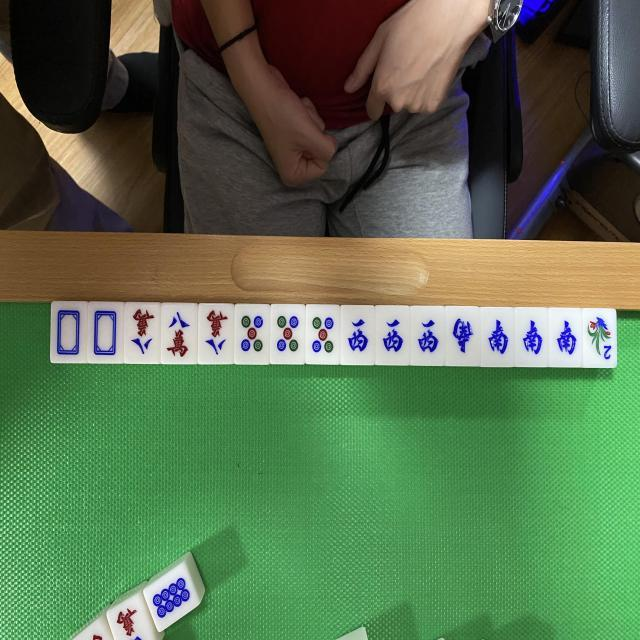bf2: (584, 309, 616, 363)
hdw: (51, 306, 88, 364), (90, 303, 124, 362)
hws: (482, 310, 516, 366), (446, 310, 480, 364), (550, 310, 583, 364), (516, 313, 548, 367)
hww: (374, 308, 410, 364), (410, 308, 445, 364), (342, 308, 375, 362)
sc8: (162, 303, 198, 363), (125, 303, 160, 362), (200, 304, 234, 362)
sd5: (234, 304, 270, 361), (272, 306, 306, 362), (306, 308, 341, 360)
sd8: (140, 561, 206, 631)
